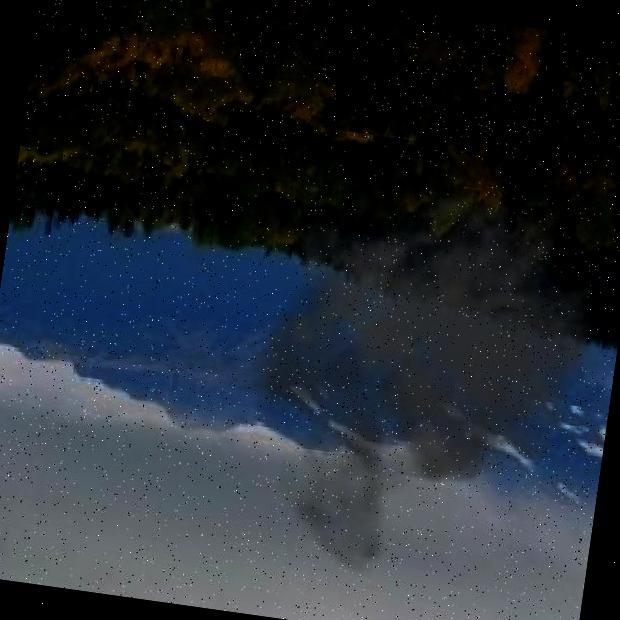smoke: (186, 139, 596, 574)
